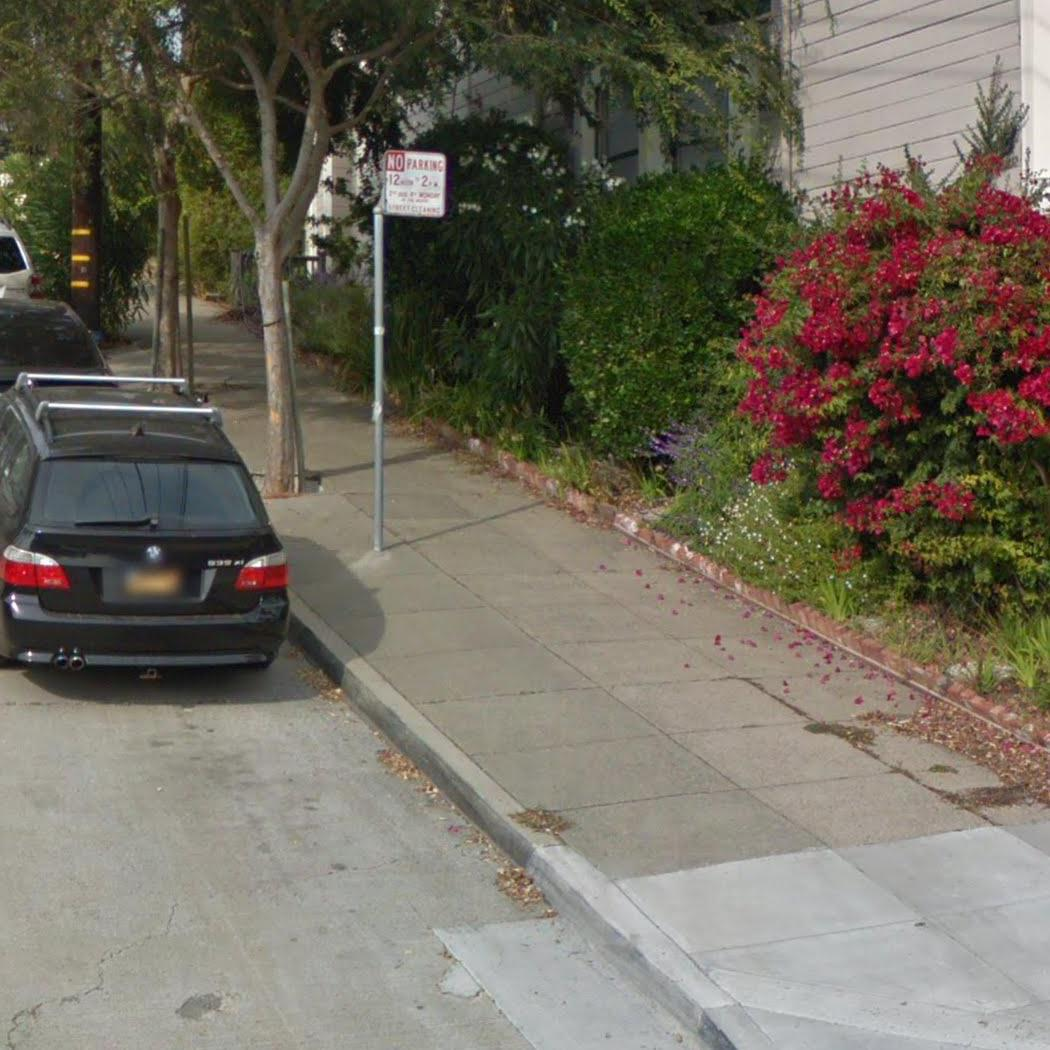No Parking: (381, 146, 450, 222)
